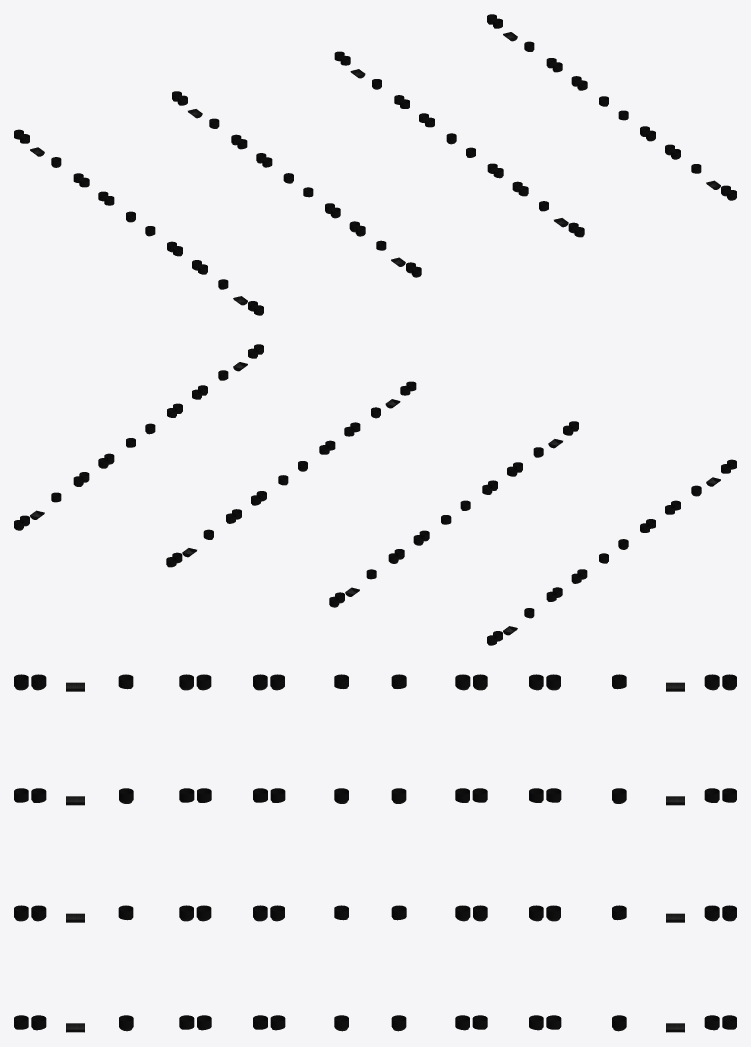
File: CR02_Spotlight_Speaker.FBX
3 renders of one model, top to bottom at view 1: azimuth 30°, elevation 25°; view 2: azimuth 150°, elevation 25°; view 3: azimuth 270°, elevation 25°, orthographic. The views are drawn at different scales.
Parts seen in each view (by area): view 1: CR02_Spotlight_Speaker_02, CR02_Spotlight_Speaker_04, CR02_Spotlight_Speaker_03, CR02_Spotlight_Speaker_01; view 2: CR02_Spotlight_Speaker_02, CR02_Spotlight_Speaker_04, CR02_Spotlight_Speaker_03, CR02_Spotlight_Speaker_01; view 3: CR02_Spotlight_Speaker_03, CR02_Spotlight_Speaker_01, CR02_Spotlight_Speaker_04, CR02_Spotlight_Speaker_02.
Part boxes in pixels (box(x1,y1,x2,y2)): CR02_Spotlight_Speaker_02: box(172, 91, 421, 277); CR02_Spotlight_Speaker_04: box(487, 14, 736, 200); CR02_Spotlight_Speaker_03: box(334, 51, 584, 237); CR02_Spotlight_Speaker_01: box(14, 129, 263, 315); CR02_Spotlight_Speaker_02: box(329, 421, 578, 607); CR02_Spotlight_Speaker_04: box(14, 344, 263, 530); CR02_Spotlight_Speaker_03: box(166, 381, 416, 567); CR02_Spotlight_Speaker_01: box(487, 459, 736, 645); CR02_Spotlight_Speaker_03: box(14, 905, 736, 922); CR02_Spotlight_Speaker_01: box(14, 674, 736, 691); CR02_Spotlight_Speaker_04: box(14, 1015, 736, 1032); CR02_Spotlight_Speaker_02: box(14, 788, 736, 805).
Size of the model in its own units: 10457 by 185 by 9205.
